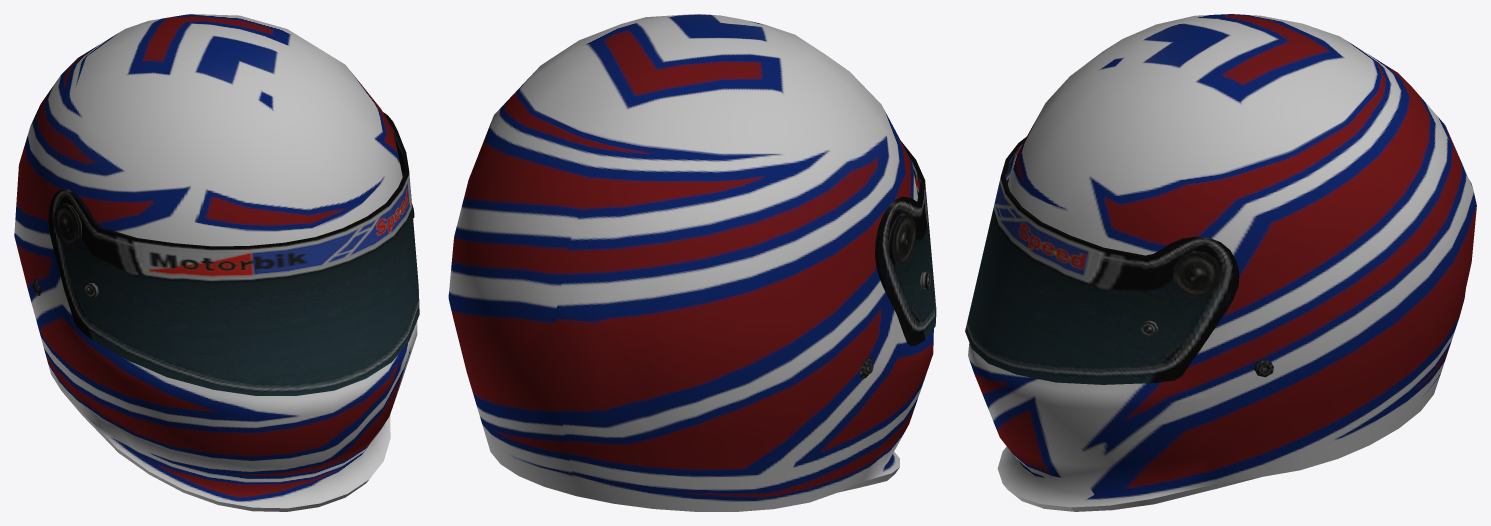
File: Helmet 8.FBX
3 views of the same model, side by side, from view 1: azimuth 30°, elevation 25°; view 2: azimuth 150°, elevation 25°; view 3: azimuth 270°, elevation 25° (orthographic). The views are drawn at different scales.
Visible parts, largest first — view 1: Helmet, Helmet window; view 2: Helmet, Helmet window; view 3: Helmet, Helmet window.
Part boxes in pixels (bbox=[...]): Helmet: bbox=[14, 14, 417, 511]; Helmet window: bbox=[48, 112, 419, 395]; Helmet: bbox=[448, 14, 933, 511]; Helmet window: bbox=[875, 141, 936, 346]; Helmet: bbox=[968, 14, 1476, 511]; Helmet window: bbox=[965, 137, 1239, 384].
Bounding box in the file's own units: 16.47 × 18.9 × 20.
1 material, 1 textured.
